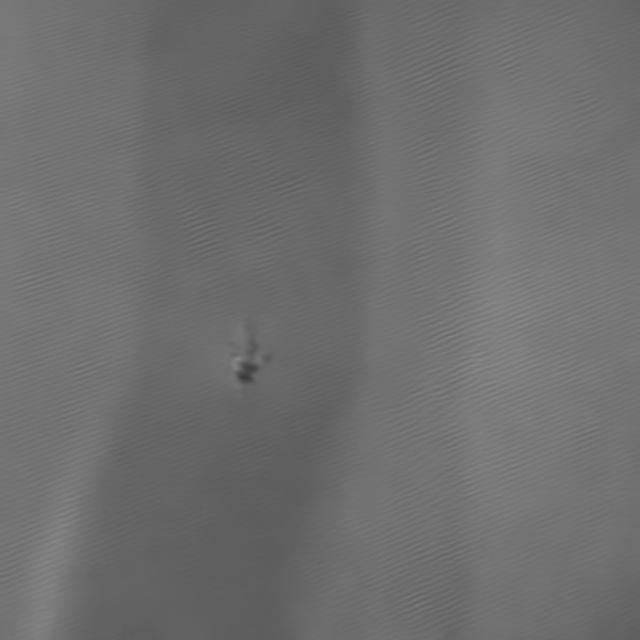other: (217, 322, 282, 388)
